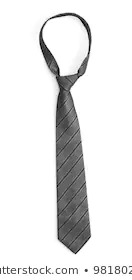F_tie: (37, 5, 105, 257)
